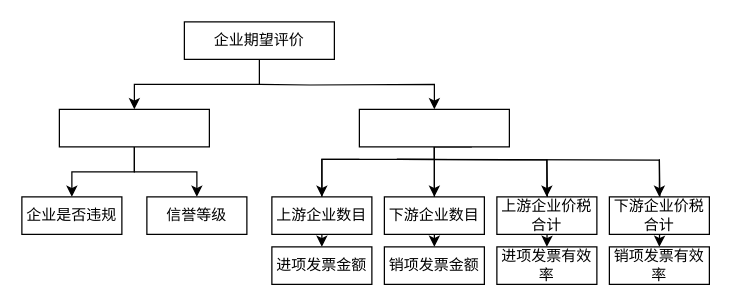
The diagram is 731 pixels wide and 306 high, and some of its shapes have lost their labels. The centre of each missing label's shape, as x and y in pixels:
"企业信誉评级" belongs at point 133,127.
"企业自身实力" belongs at point 433,127.
